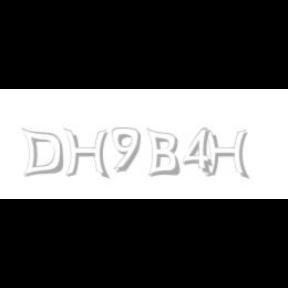4: (182, 128, 212, 174)
9: (112, 128, 140, 172)
B: (146, 128, 180, 178)
D: (21, 128, 64, 178)
H: (63, 128, 109, 180), (203, 128, 249, 180)
